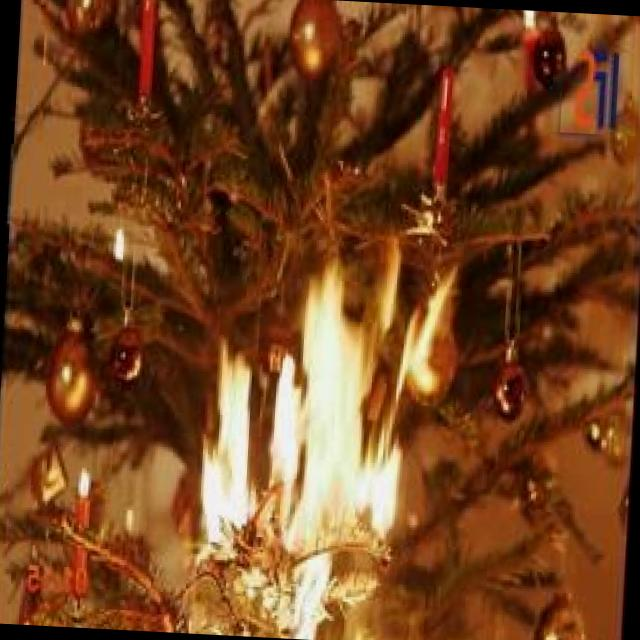fire: (194, 235, 459, 546)
